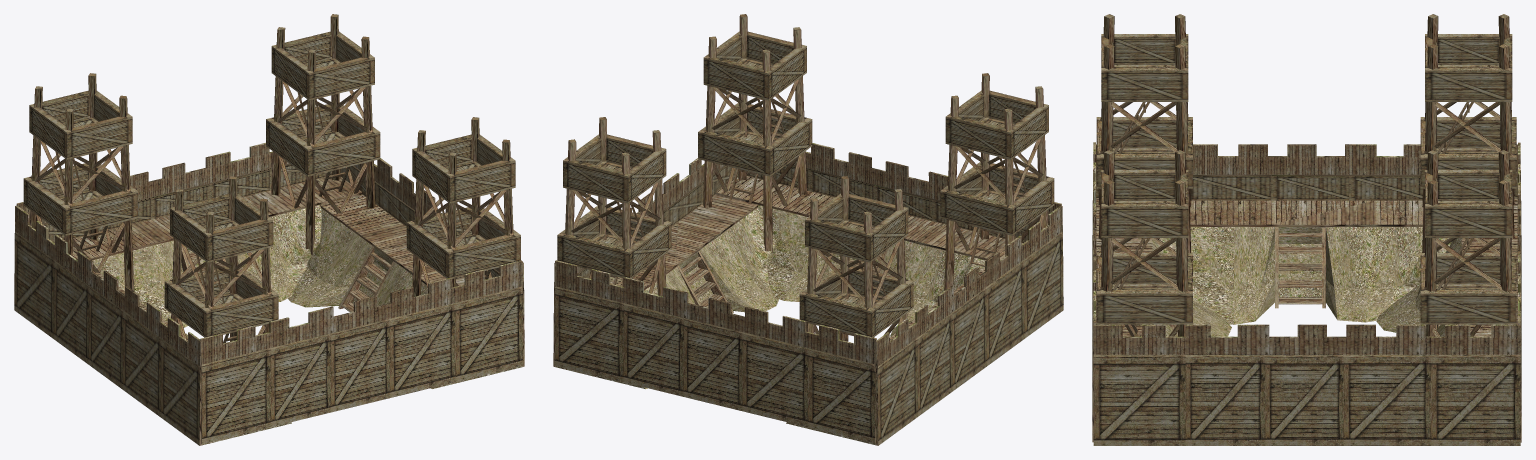
The model's file is rome_armycamp.dae.
3 views of the same model, side by side, from view 1: azimuth 30°, elevation 25°; view 2: azimuth 150°, elevation 25°; view 3: azimuth 270°, elevation 25° (orthographic). The views are drawn at different scales.
Parts seen in each view (by area): view 1: temp_roman_army_camp; view 2: temp_roman_army_camp; view 3: temp_roman_army_camp.
Boxes of the visible parts, <box> form: temp_roman_army_camp: <box>14,14,524,445</box>; temp_roman_army_camp: <box>553,14,1063,445</box>; temp_roman_army_camp: <box>1092,14,1521,445</box>.
Bounding box in the file's own units: 25.39 × 25.25 × 16.67.
